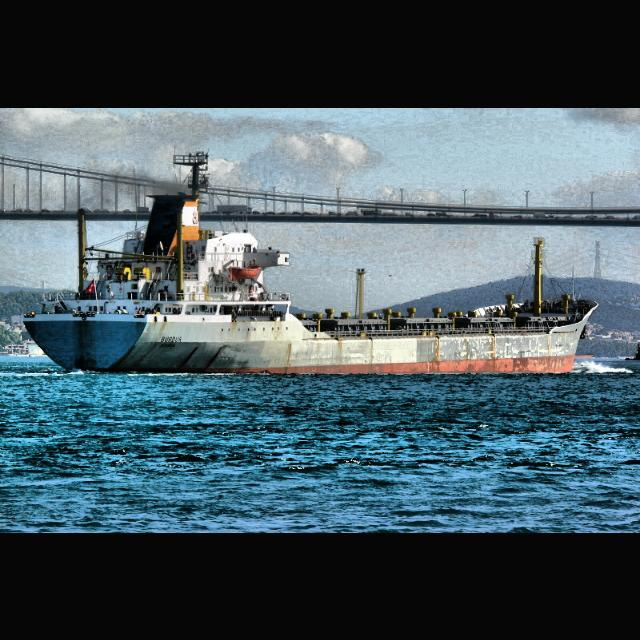bulk_carrier: (19, 150, 600, 374)
